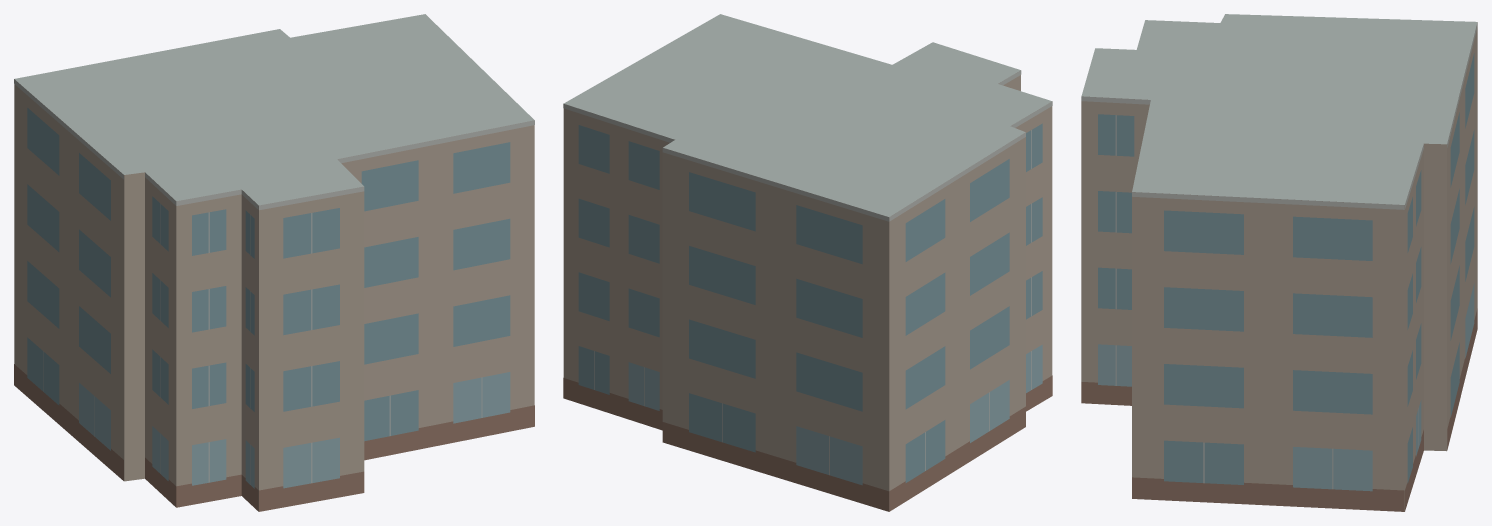
File: survey-upis-32497578.glb
3 renders of one model, left to right at view 1: azimuth 30°, elevation 25°; view 2: azimuth 150°, elevation 25°; view 3: azimuth 270°, elevation 25°, orthographic. The views are drawn at different scales.
Parts seen in each view (by area): view 1: survey-upis-32497578.tmp; view 2: survey-upis-32497578.tmp; view 3: survey-upis-32497578.tmp.
Part boxes in pixels (bbox=[...]): survey-upis-32497578.tmp: bbox=[14, 14, 534, 511]; survey-upis-32497578.tmp: bbox=[563, 14, 1052, 511]; survey-upis-32497578.tmp: bbox=[1081, 14, 1477, 511].
Bounding box in the file's own units: 20.71 × 15.5 × 18.15.
